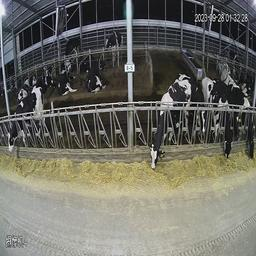cow: (147, 79, 193, 163), (201, 74, 233, 162), (8, 87, 47, 152), (228, 78, 255, 161), (184, 72, 209, 150), (217, 78, 238, 131), (85, 59, 107, 94), (16, 76, 36, 111), (105, 31, 124, 62), (57, 68, 77, 97), (36, 73, 55, 98), (63, 39, 79, 65)
